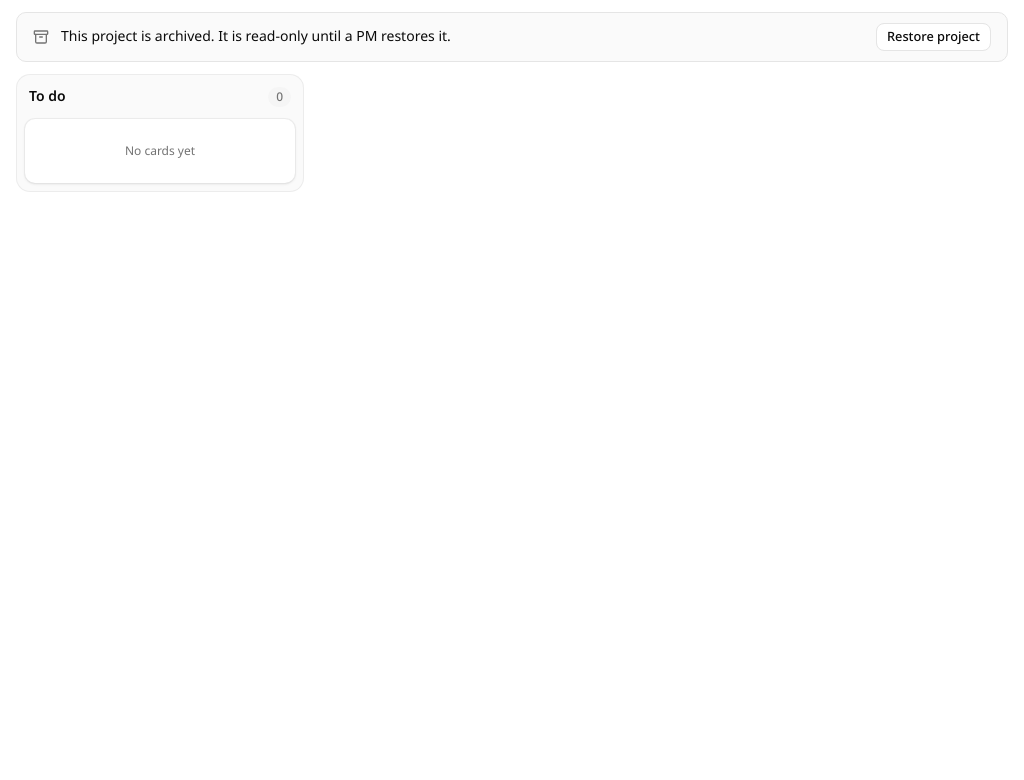
Archived project › Restore makes the board editable again
The width and height of the screenshot is (1024, 780).
Expected: the heading "To do" is shown, [29,86,66,107]
Click the button "Restore project".
click(934, 37)  # box [876,23,991,51]
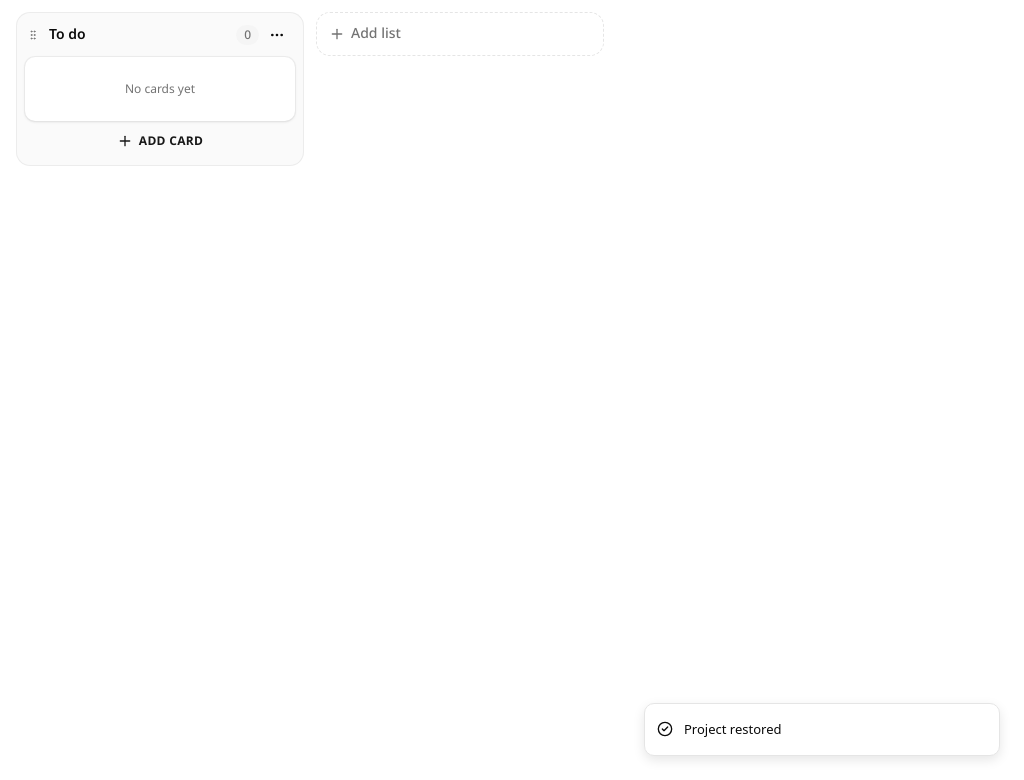
Result: the button "Add list" is shown at [316,12,604,56]
Result: the text "This project is archived" is gone
